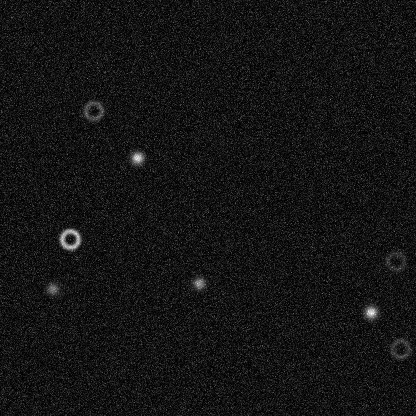Ring: (383, 249, 407, 273), (388, 336, 412, 360), (57, 227, 81, 251), (81, 98, 105, 122)
Spot: (44, 280, 60, 296), (129, 149, 145, 165), (190, 275, 206, 291), (362, 304, 378, 320)
